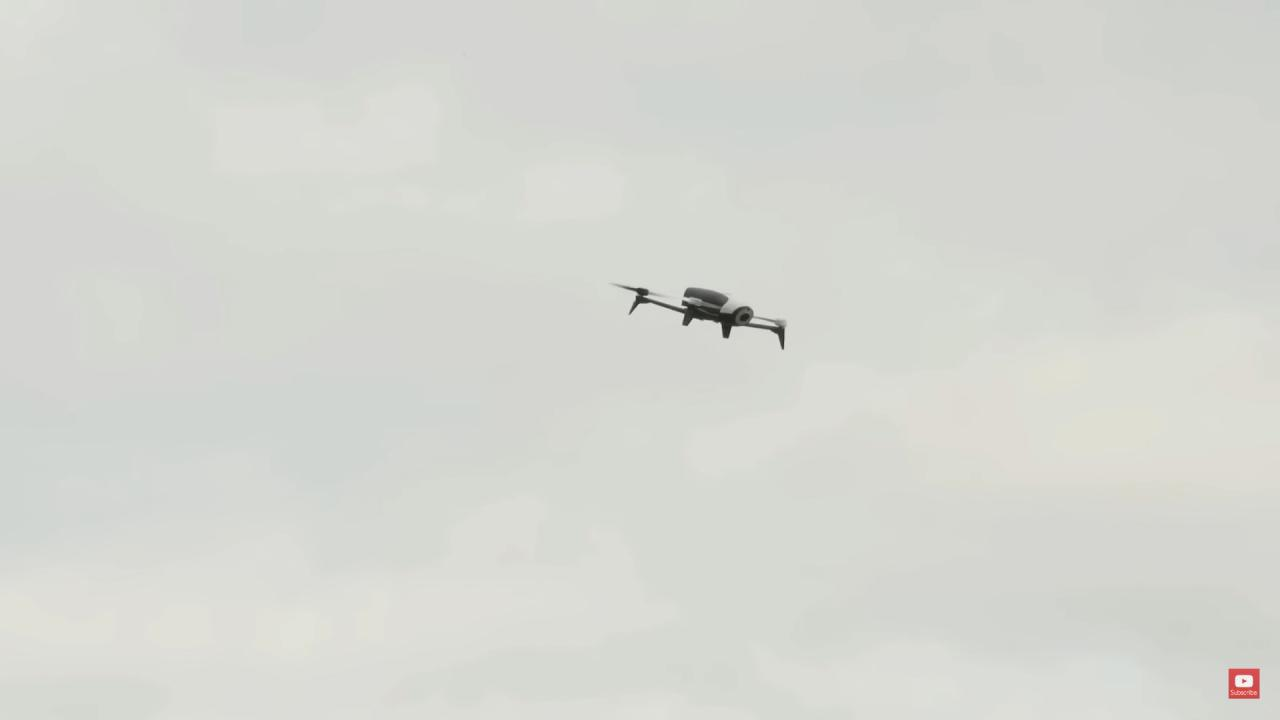Drone: (601, 255, 798, 358)
